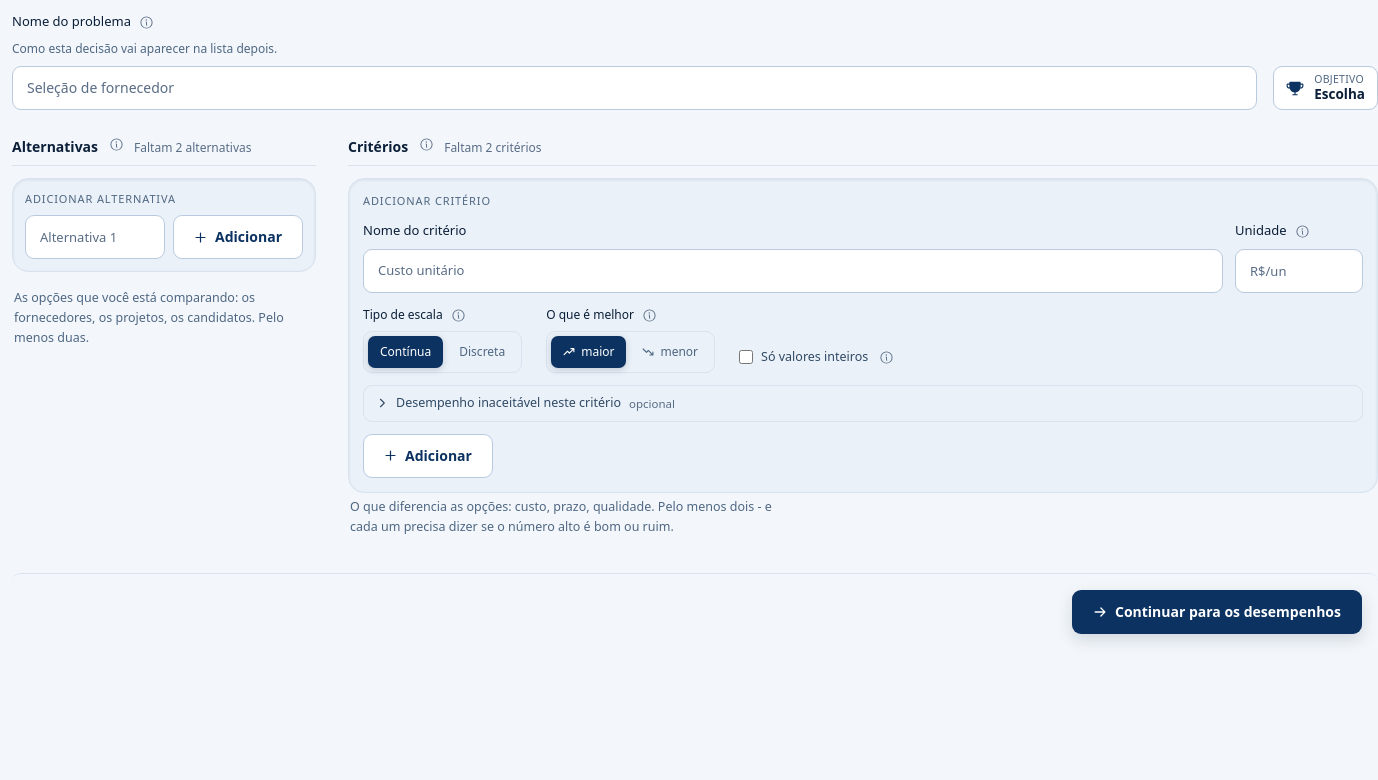
Test: lista de alternativas › adiciona pelo botão e atualiza a contagem
The image size is (1378, 780).
Check: the text "Faltam 2 alternativas" is shown, box [134,138,252,156]
Type "Fornecedor A" into the field named "Nome da nova alternativa" at {"x": 95, "y": 237}, box [25,215,165,259]
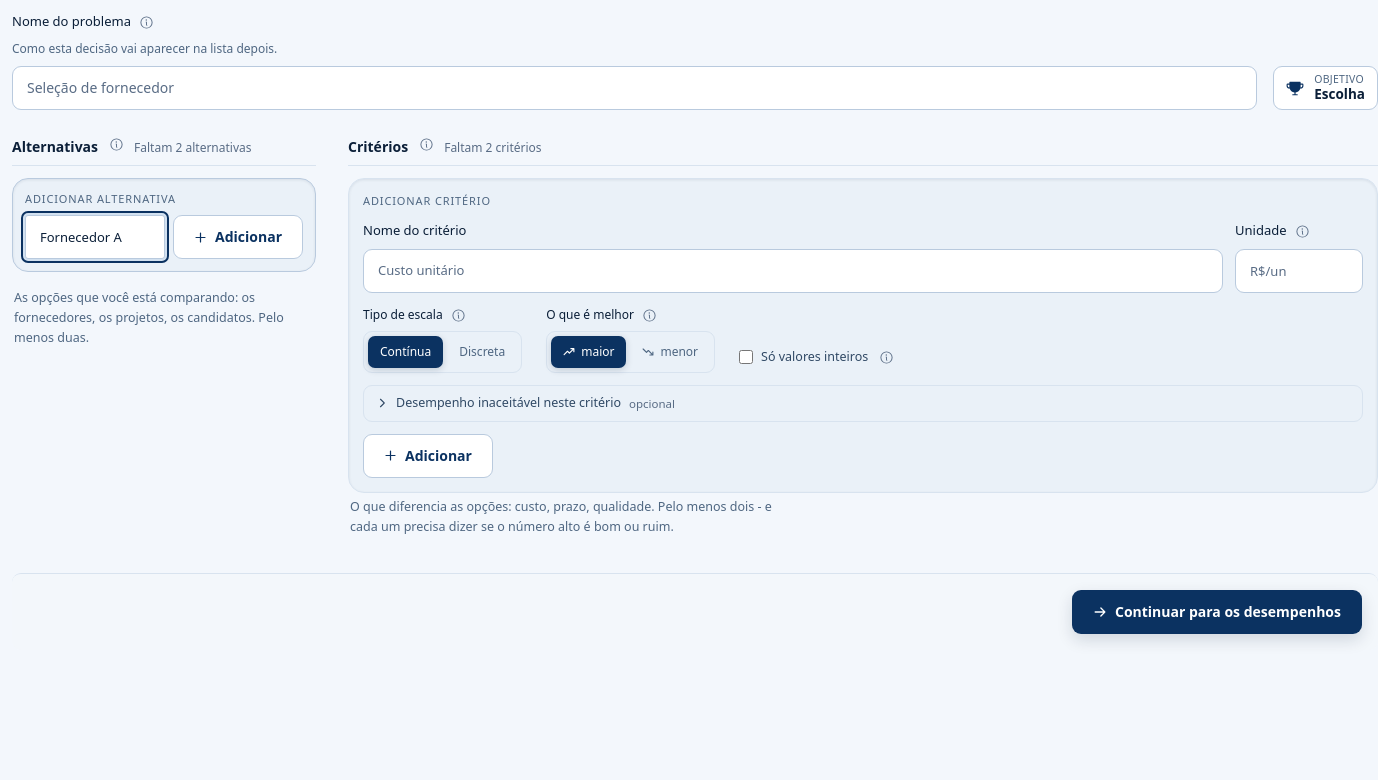
Click the button "Adicionar" below "Adicionar alternativa" at {"x": 238, "y": 237}, box [173,215,303,259]
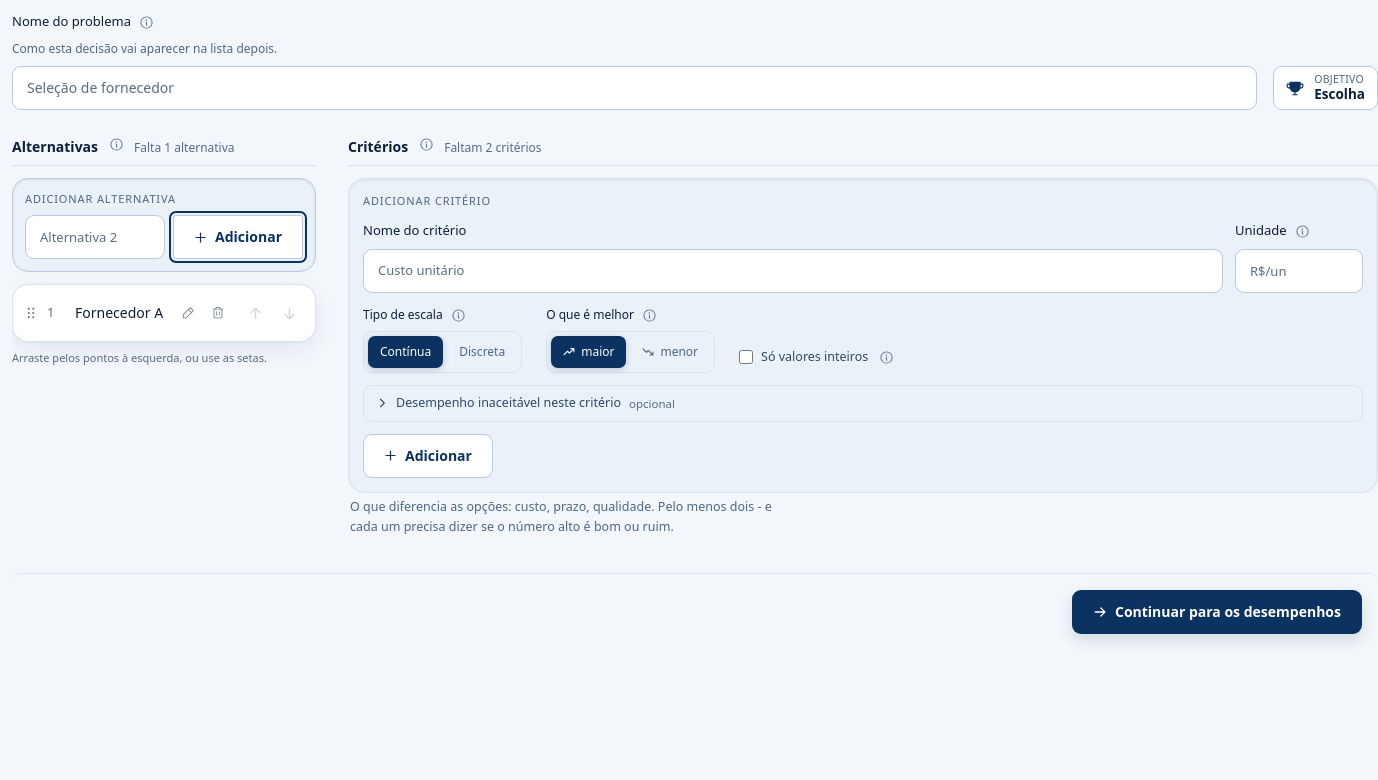
Check: the text "Falta 1 alternativa" is shown, box [134,138,234,156]
Type "Fornecedor B" into the field named "Nome da nova alternativa" at {"x": 95, "y": 237}, box [25,215,165,259]
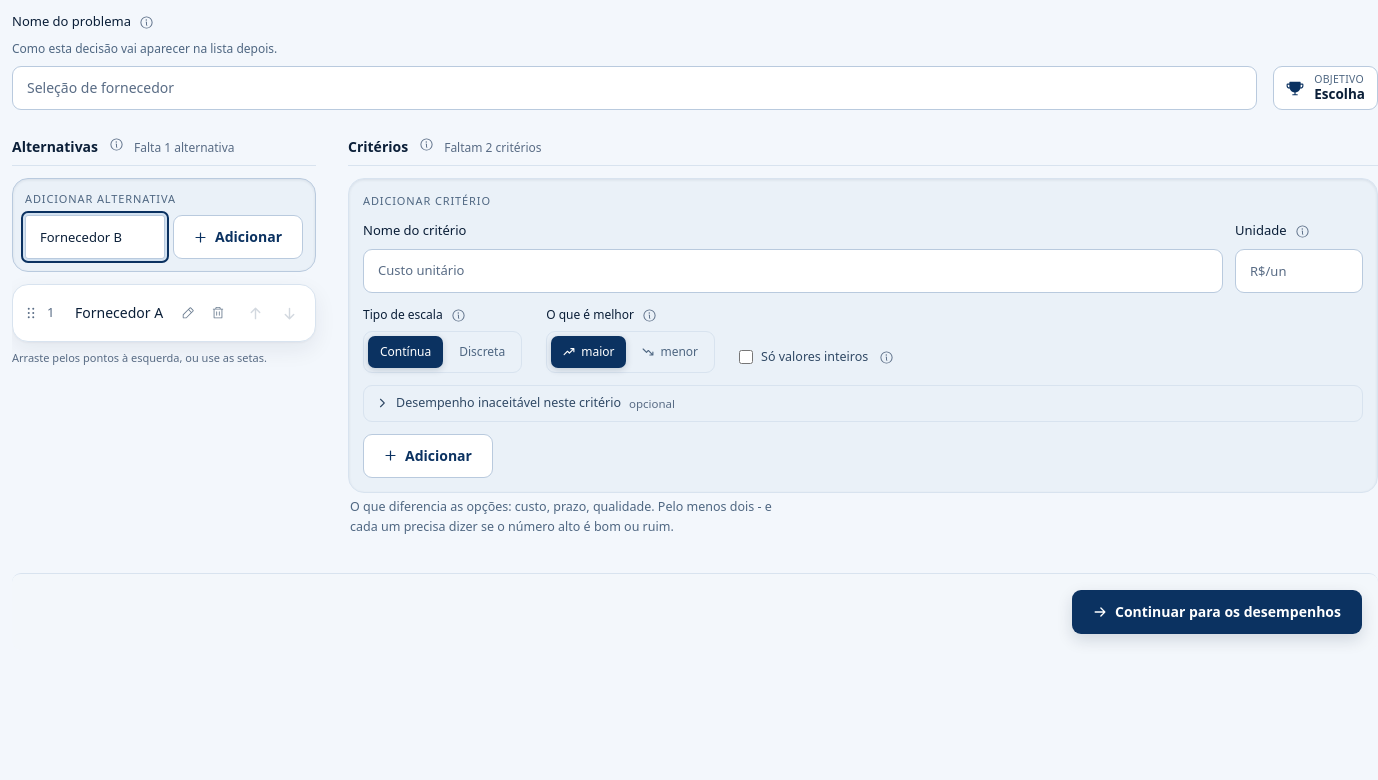
Click the button "Adicionar" below "Adicionar alternativa" at {"x": 238, "y": 237}, box [173,215,303,259]
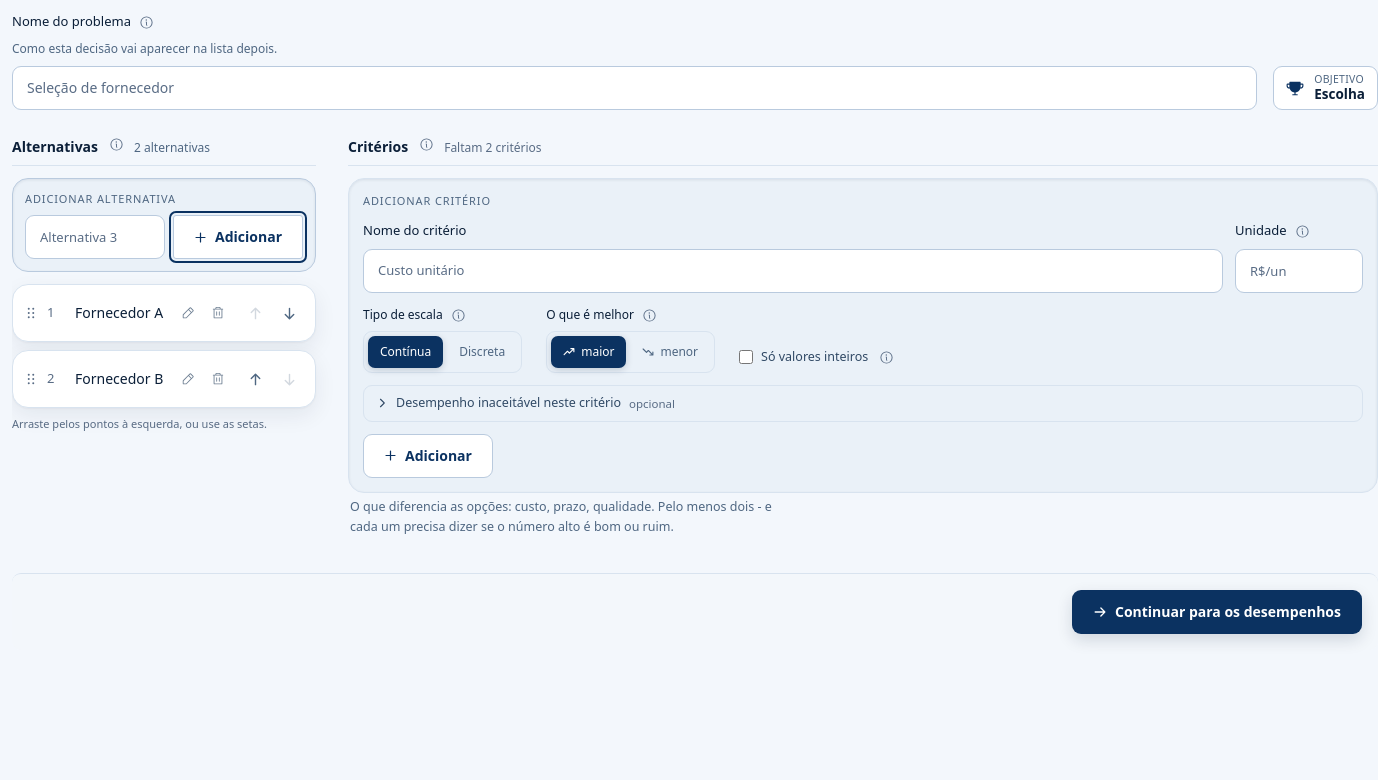
Check: the text "Fornecedor A" is shown, box [75,303,167,323]
Check: the text "2 alternativas" is shown, box [134,138,210,156]
